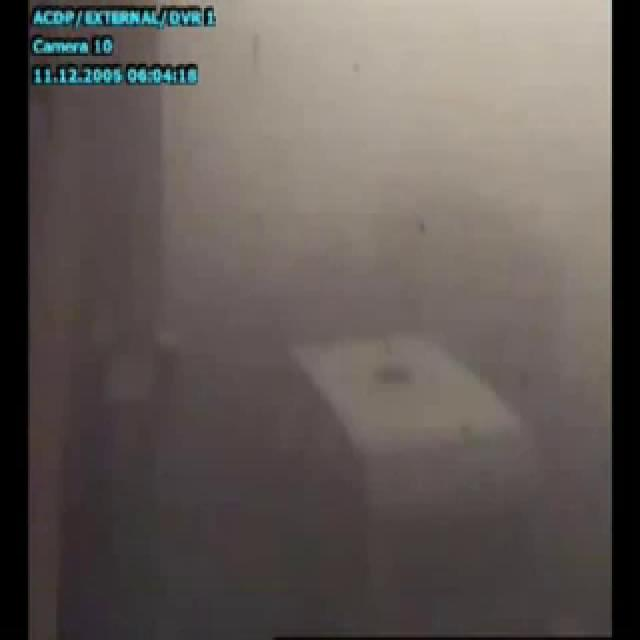explosion: (220, 0, 582, 622)
